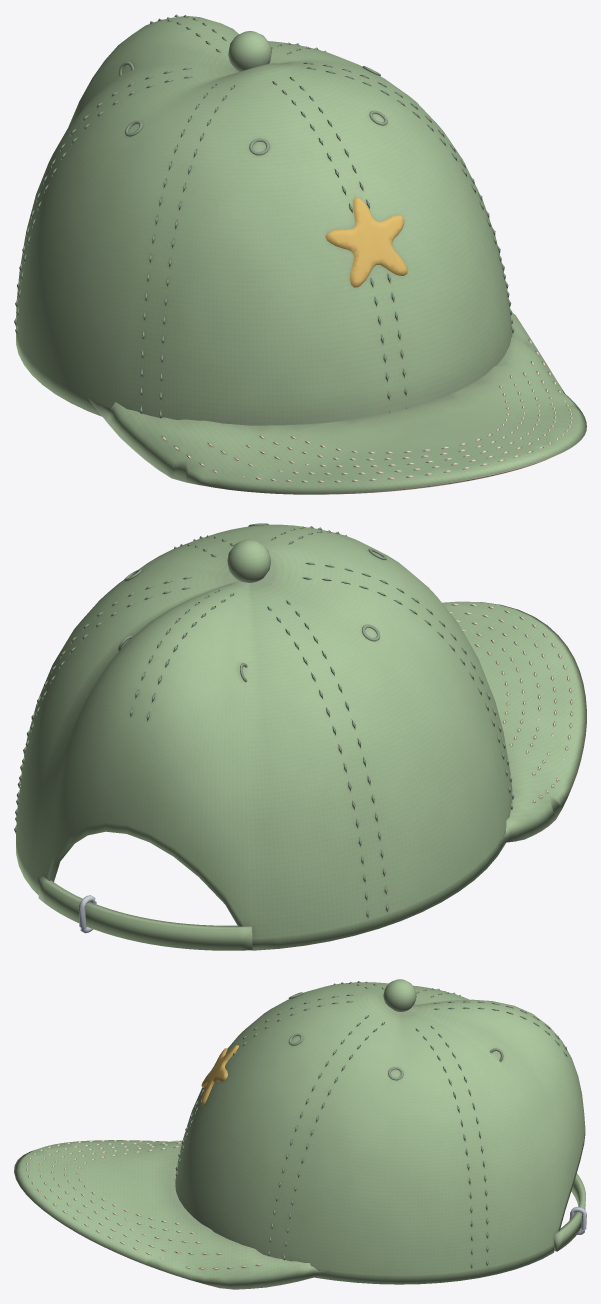
Rendered from baseball-cap.glb.
3 renders of one model, top to bottom at view 1: azimuth 30°, elevation 25°; view 2: azimuth 150°, elevation 25°; view 3: azimuth 270°, elevation 25°, orthographic. The views are drawn at different scales.
Visible parts, largest first — view 1: baseball-cap_body; view 2: baseball-cap_body; view 3: baseball-cap_body.
Part boxes in pixels (x1,y1,x2,y2): baseball-cap_body: (14,14,586,494); baseball-cap_body: (14,523,586,950); baseball-cap_body: (14,979,586,1289).
Size of the model in its own units: 0.186 by 0.1336 by 0.2919.
1 material, 1 textured.
